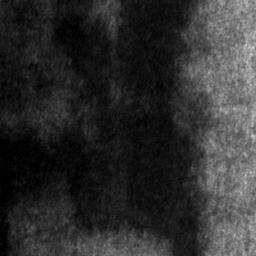Patches: (0, 0, 204, 256)
